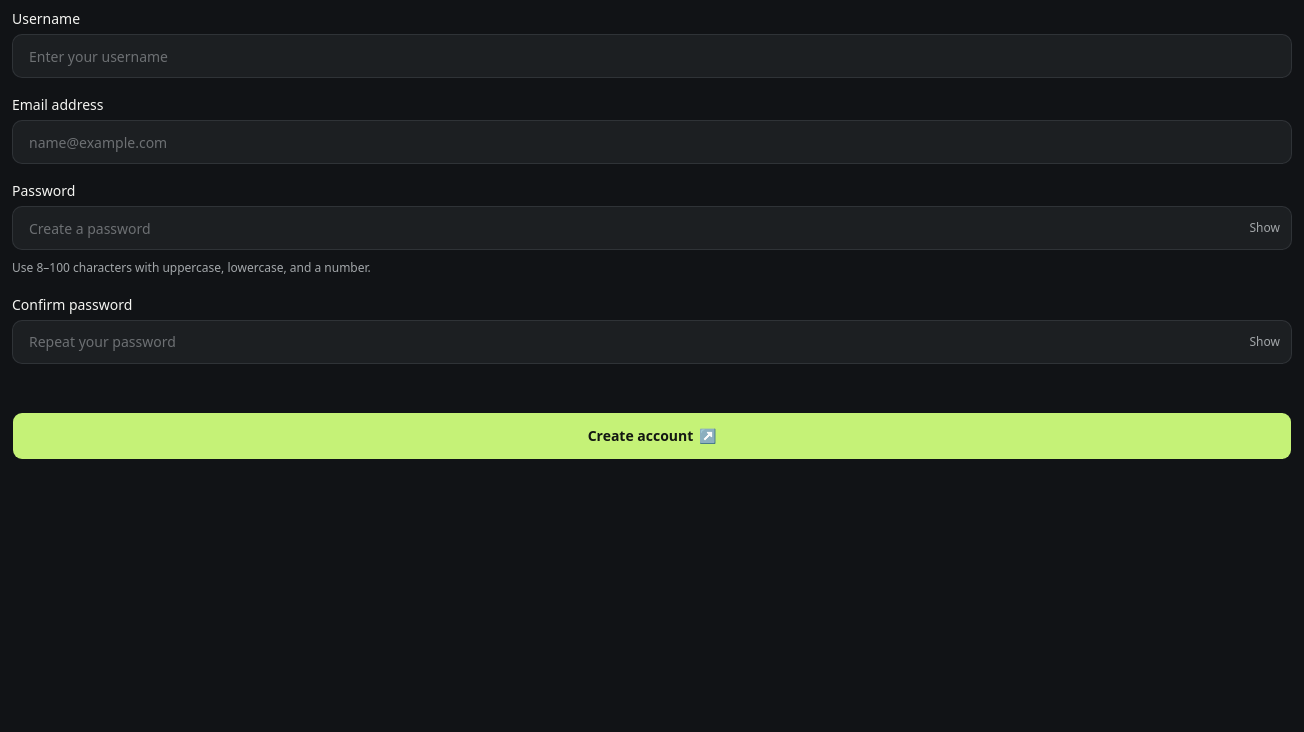
Test: RegisterForm › shows error without redirect when network fails
The image size is (1304, 732).
Step 1. Type "careertrackuser" into the field labelled "Username" → {"x": 652, "y": 56}, box [12,34,1292,78]
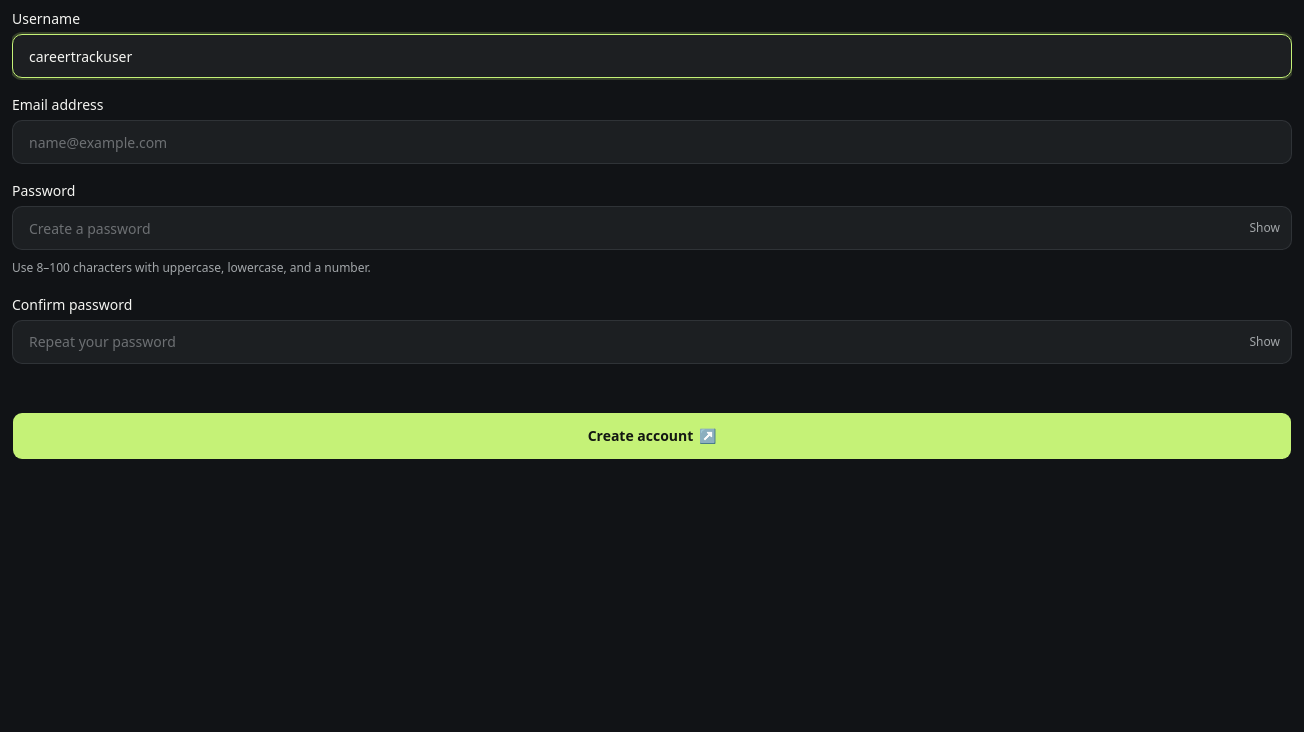
Step 2. Type "careertrack@example.com" into the field labelled "Email address" → {"x": 652, "y": 142}, box [12,120,1292,164]
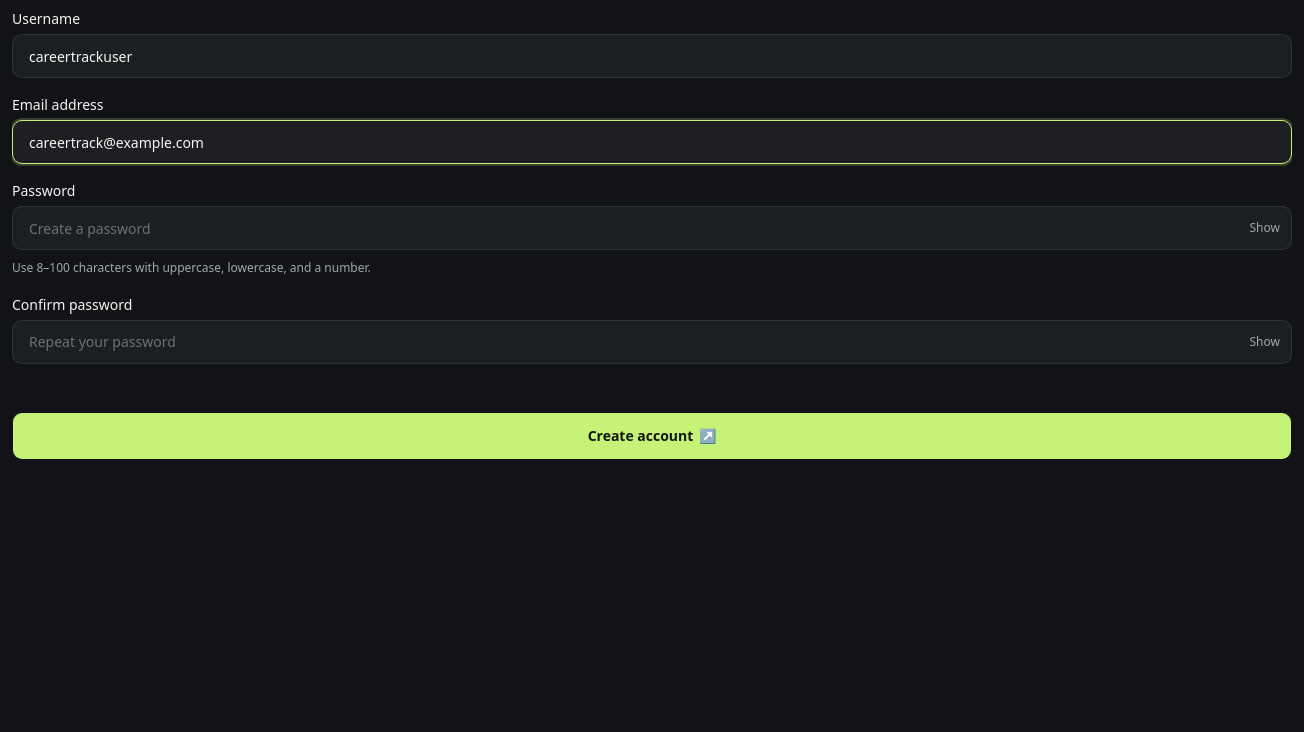
Step 3. Type "Password123" into the password field labelled "Password" → {"x": 652, "y": 228}, box [12,206,1292,250]
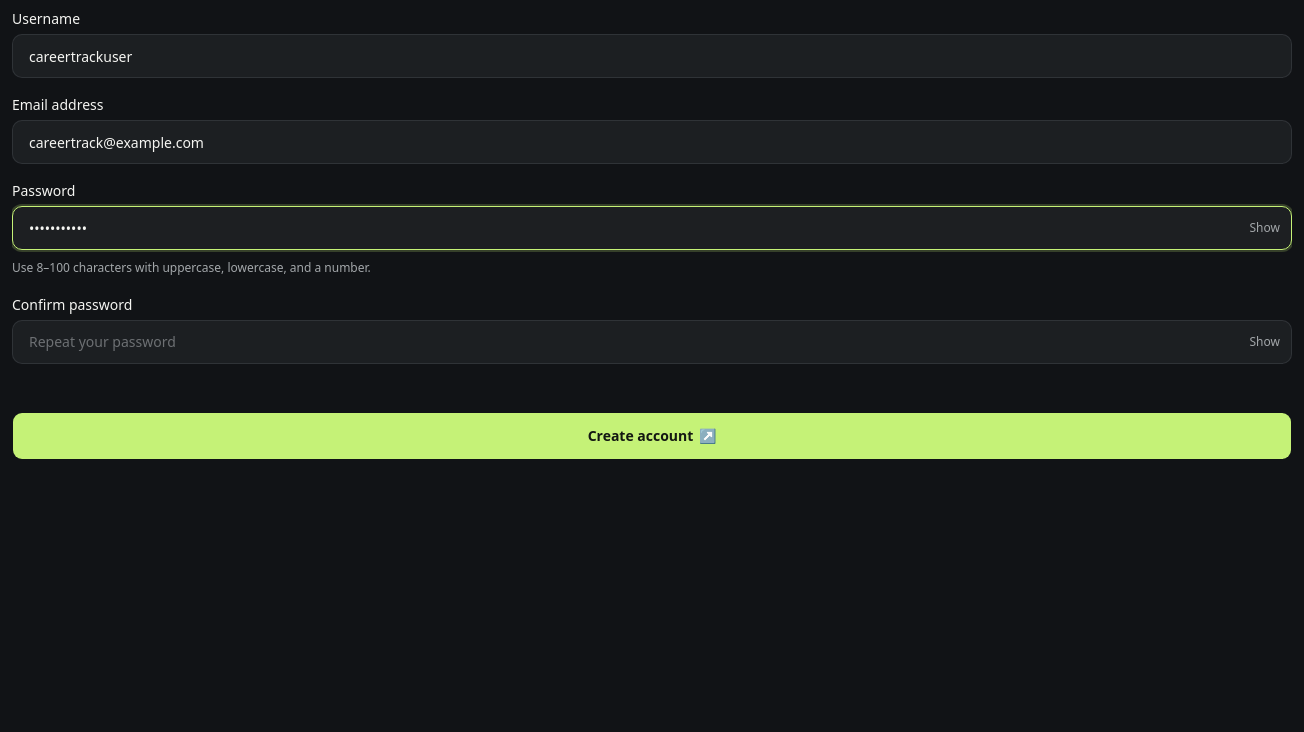
Step 4. Type "Password123" into the password field labelled "Confirm password" → {"x": 652, "y": 342}, box [12,320,1292,364]
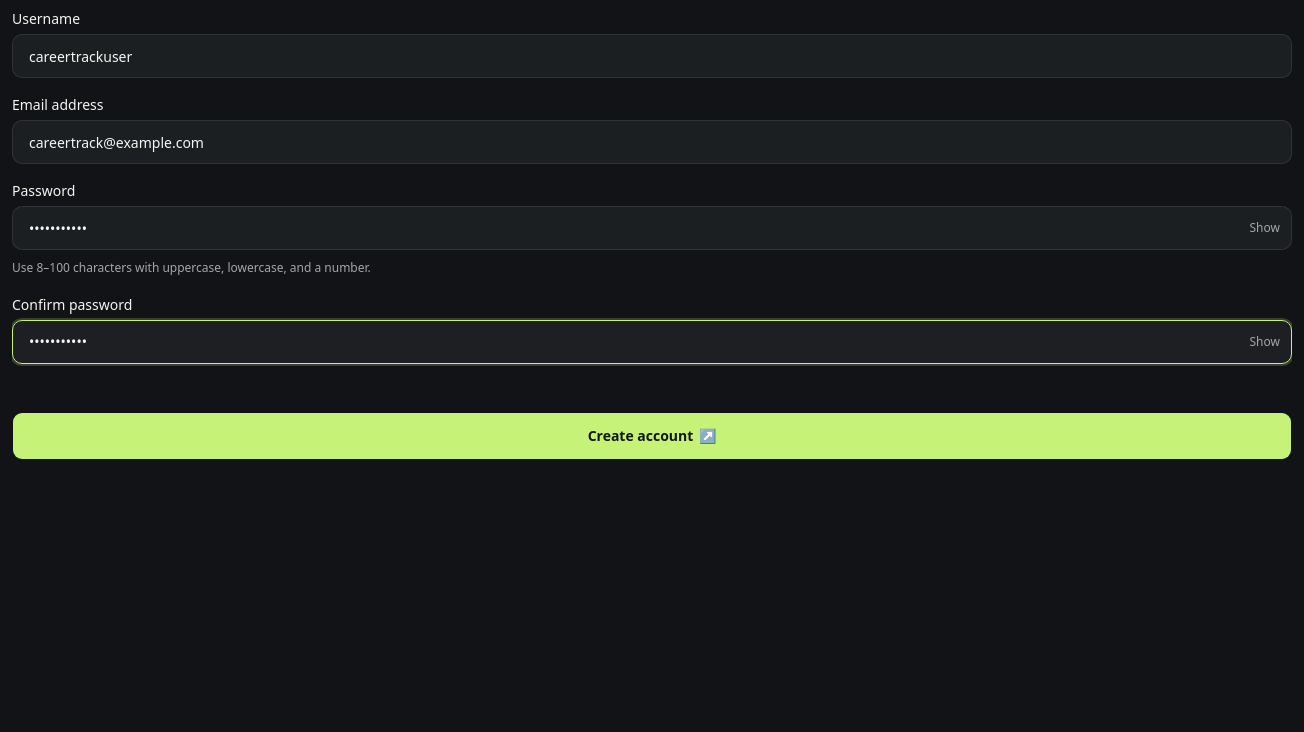
Step 5. Click the button "Create account ↗" → {"x": 652, "y": 436}, box [12,412,1292,460]
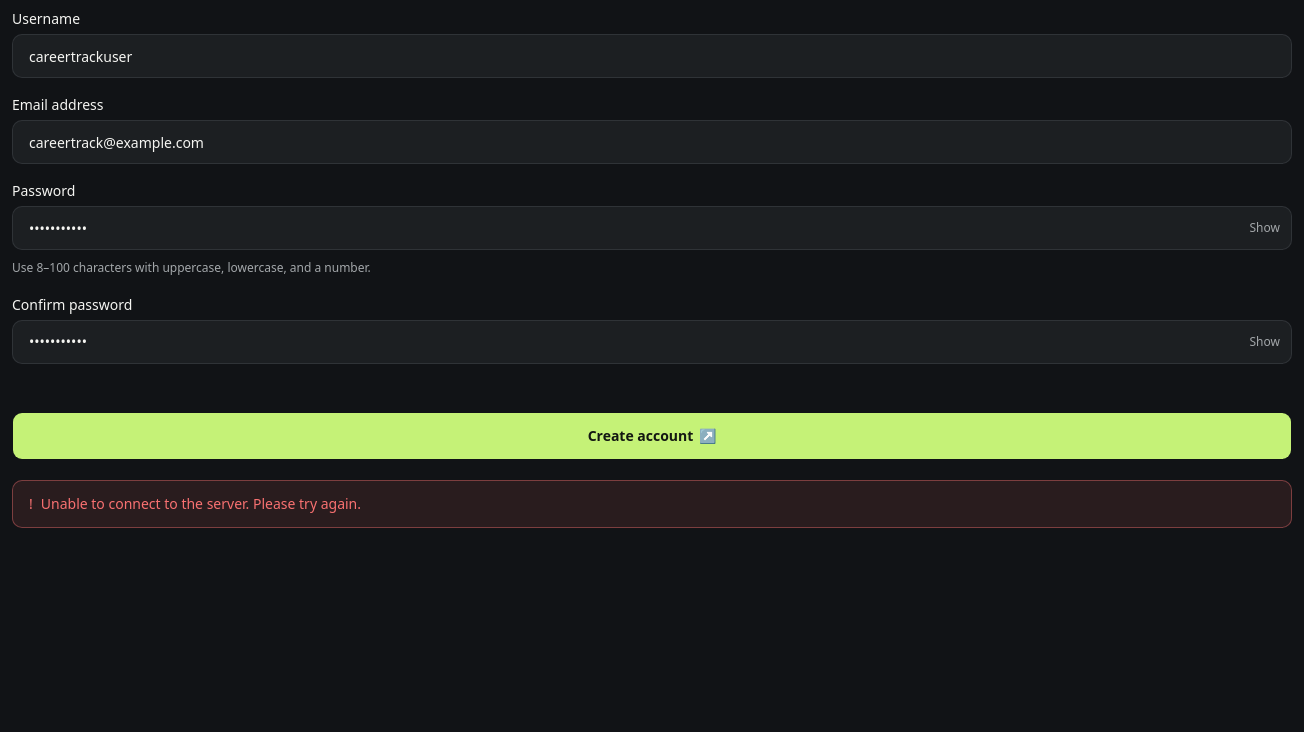
Check: the text "Unable to connect to the server. Please try again." is shown, box [41,492,361,515]
